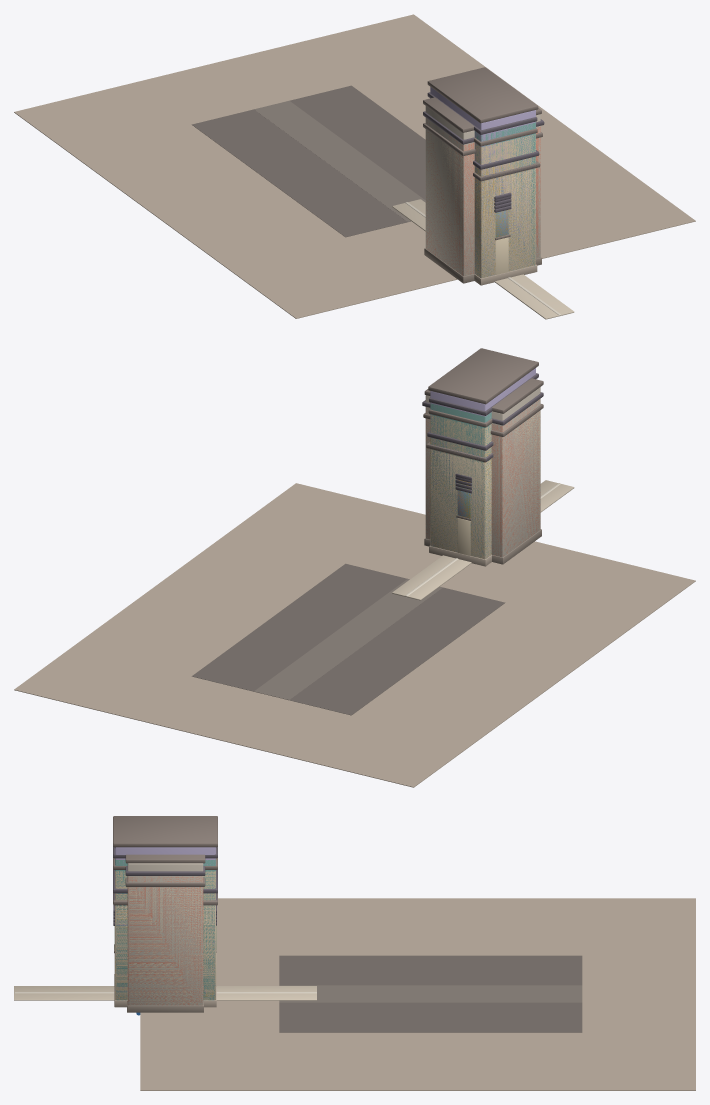
File: kit.glb
The picture shows the model from 3 angles, top to bottom: view 1: azimuth 30°, elevation 25°; view 2: azimuth 150°, elevation 25°; view 3: azimuth 270°, elevation 25°; orthographic projection.
Parts seen in each view (by area): view 1: MOD_Ground, MOD_Road, MOD_Block_08, MOD_Block_06, MOD_Block_04, MOD_Block_00, MOD_Block_09, MOD_Block_05, MOD_Block_10, MOD_Pavement, MOD_Block_07, MOD_Shell_Cream_Dusty_blue; view 2: MOD_Ground, MOD_Road, MOD_Block_08, MOD_Block_00, MOD_Block_06, MOD_Block_09, MOD_Block_04, MOD_Block_05, MOD_Pavement, MOD_Block_10, MOD_Shell_Cream_Dusty_blue; view 3: MOD_Ground, MOD_Road, MOD_Block_08, MOD_Block_09, MOD_Block_06, MOD_Block_10, MOD_Pavement, MOD_Block_04, MOD_Block_05, MOD_Block_00.
Part boxes in pixels (bbox=[...]): MOD_Ground: bbox=[14, 14, 695, 318]; MOD_Road: bbox=[192, 85, 425, 237]; MOD_Block_08: bbox=[423, 97, 541, 283]; MOD_Block_06: bbox=[427, 67, 538, 276]; MOD_Block_04: bbox=[474, 128, 537, 277]; MOD_Block_00: bbox=[473, 160, 540, 285]; MOD_Block_09: bbox=[423, 111, 544, 275]; MOD_Block_05: bbox=[427, 92, 537, 276]; MOD_Block_10: bbox=[423, 123, 542, 275]; MOD_Pavement: bbox=[392, 199, 574, 319]; MOD_Block_07: bbox=[473, 150, 539, 277]; MOD_Shell_Cream_Dusty_blue: bbox=[494, 202, 511, 274]; MOD_Ground: bbox=[14, 483, 695, 787]; MOD_Road: bbox=[192, 563, 505, 715]; MOD_Block_08: bbox=[424, 378, 543, 564]; MOD_Block_00: bbox=[426, 442, 492, 566]; MOD_Block_06: bbox=[428, 348, 538, 556]; MOD_Block_09: bbox=[422, 392, 543, 556]; MOD_Block_04: bbox=[428, 409, 492, 558]; MOD_Block_05: bbox=[429, 373, 538, 556]; MOD_Pavement: bbox=[392, 480, 574, 600]; MOD_Block_10: bbox=[423, 404, 543, 555]; MOD_Shell_Cream_Dusty_blue: bbox=[455, 483, 471, 555]; MOD_Ground: bbox=[140, 898, 695, 1090]; MOD_Road: bbox=[279, 955, 582, 1032]; MOD_Block_08: bbox=[125, 854, 205, 1012]; MOD_Block_09: bbox=[125, 866, 205, 1005]; MOD_Block_06: bbox=[113, 816, 217, 998]; MOD_Block_10: bbox=[125, 877, 205, 1005]; MOD_Pavement: bbox=[14, 986, 316, 1000]; MOD_Block_04: bbox=[113, 857, 217, 1000]; MOD_Block_05: bbox=[113, 846, 217, 1000]; MOD_Block_00: bbox=[113, 893, 217, 1007].
Size of the model in its own units: 36 by 15.5 by 54.
Materials: 2 (2 with a texture image).
